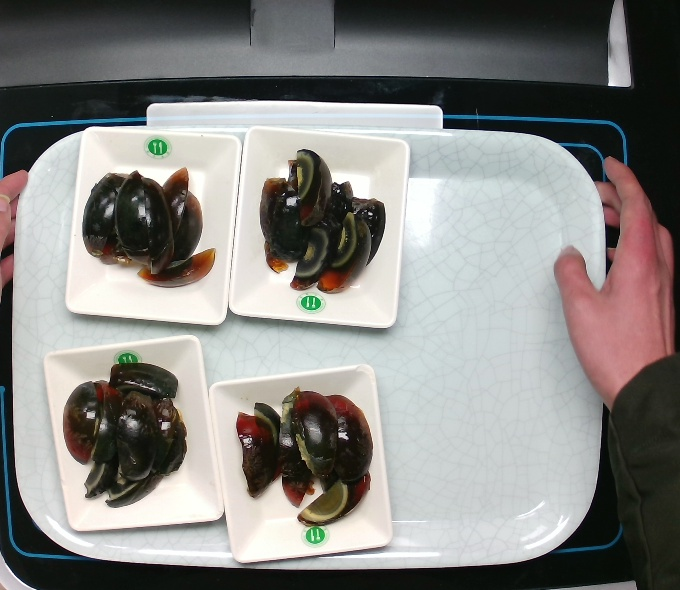wcq-PiDan: (223, 373, 373, 529), (53, 340, 191, 508), (252, 141, 393, 300), (76, 150, 221, 292)
